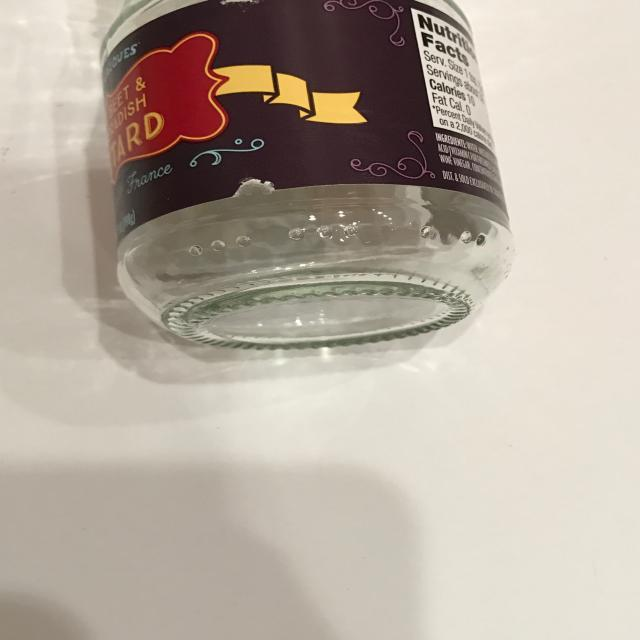glass: (92, 1, 516, 351)
